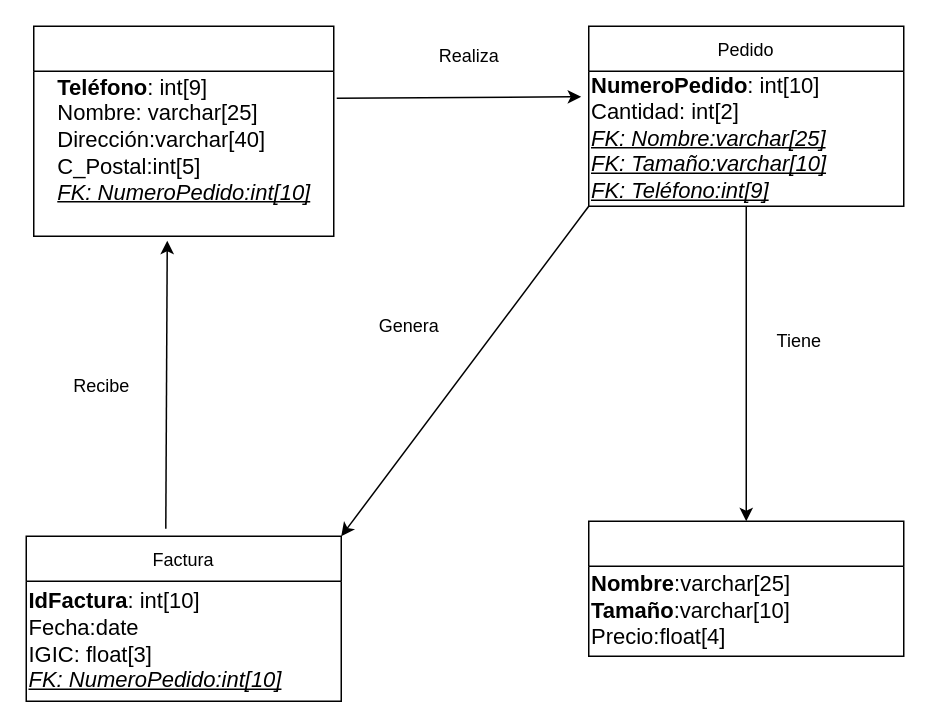
Image size: 930x728. Some labels were removed from this diagram. Each missing label, with the box of its shape:
Cliente: (32, 25, 334, 236)
Pizza: (587, 520, 904, 656)
